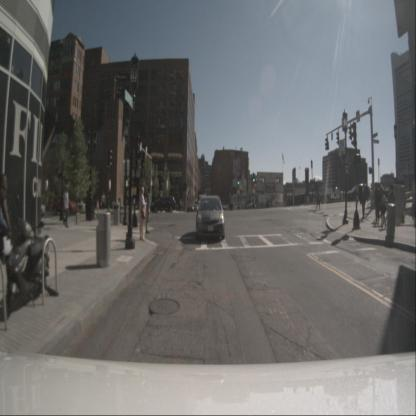human-pedestrian-adult: (0, 172, 12, 264), (139, 185, 146, 242), (388, 183, 396, 230), (374, 182, 382, 226), (360, 179, 368, 219), (63, 183, 70, 228), (145, 186, 151, 234), (380, 189, 387, 227), (379, 183, 386, 216), (316, 188, 322, 210), (100, 191, 106, 213), (180, 198, 182, 213), (226, 204, 228, 212)
vehicle-car: (196, 195, 224, 240), (52, 195, 79, 216), (346, 184, 370, 202), (150, 196, 176, 212), (246, 200, 256, 210), (186, 203, 194, 212), (194, 204, 198, 212)
vehicle-motorcycle: (5, 193, 50, 321)
